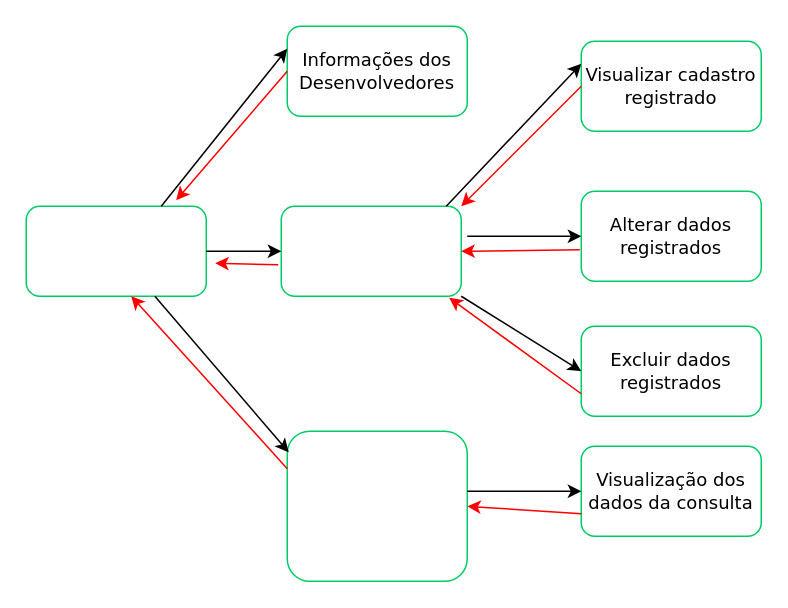
This 788x608 diagram has some shape labels left out. The box of each missing label's shape, as (x1, y1, x2, y2) in pixels:
Cadastrar/Editar (Armazenamento local): (280, 205, 461, 296)
Pesquisar pokémon: -Nome -Número -Tipo/elemento: (286, 430, 467, 581)
Tela Inicial: (25, 205, 206, 296)
